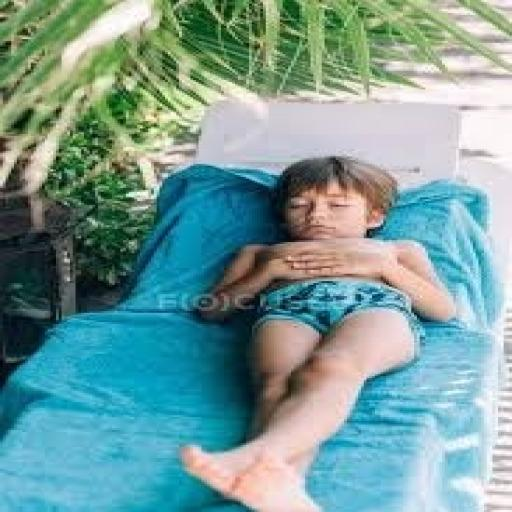sleeping: (176, 153, 459, 510)
